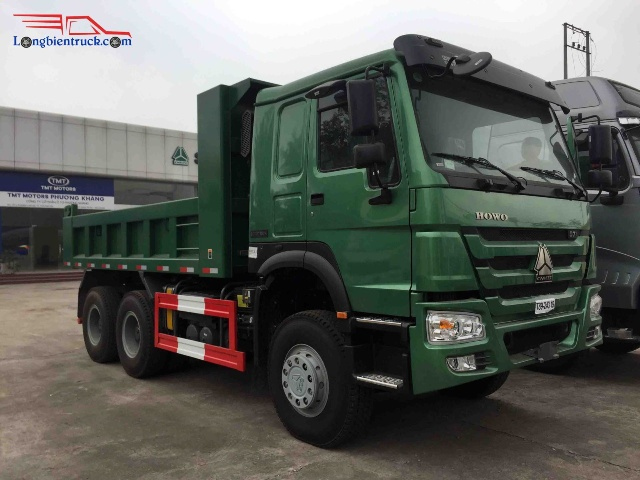Xe_tai_ben: (58, 28, 605, 451)
